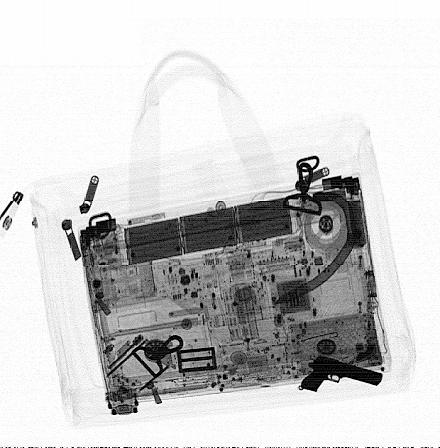Gun: (296, 355, 384, 395)
